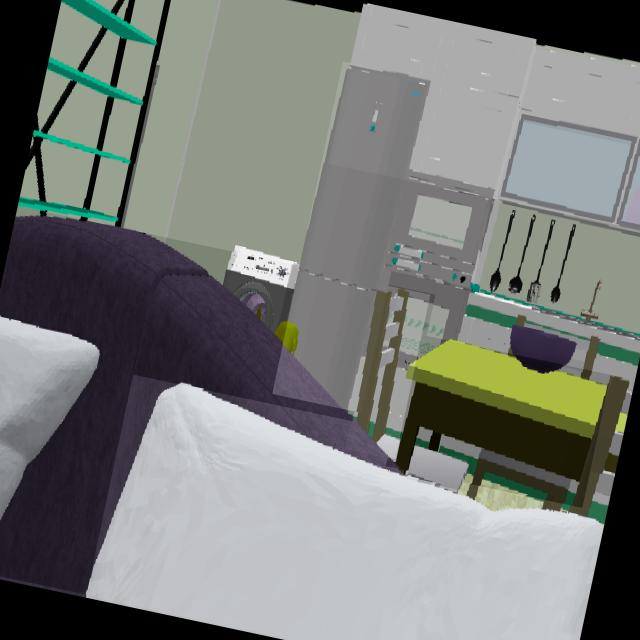cabinet: (351, 4, 640, 230)
chair: (356, 289, 409, 459), (410, 448, 466, 489)
fridge: (288, 67, 430, 410)
microwave: (388, 171, 492, 286)
pillow: (87, 384, 602, 640), (0, 318, 98, 522)
sofa: (0, 217, 398, 594)
table: (396, 340, 607, 482)
